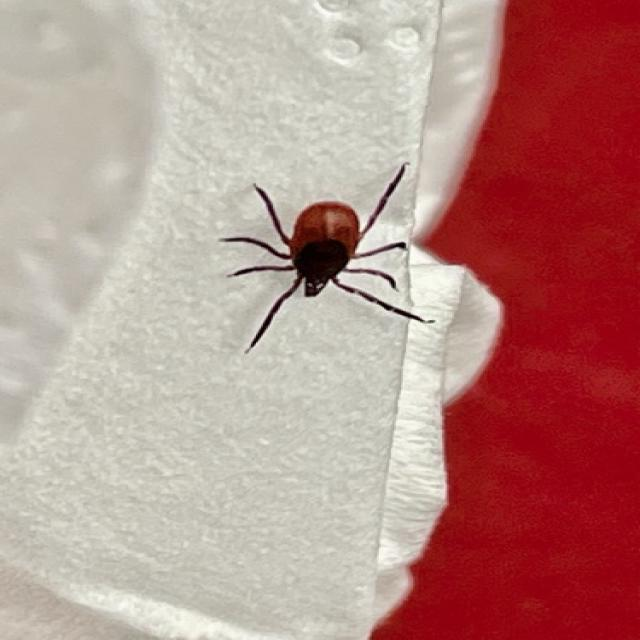Ixodes Ricinus-F: (220, 166, 427, 352)
